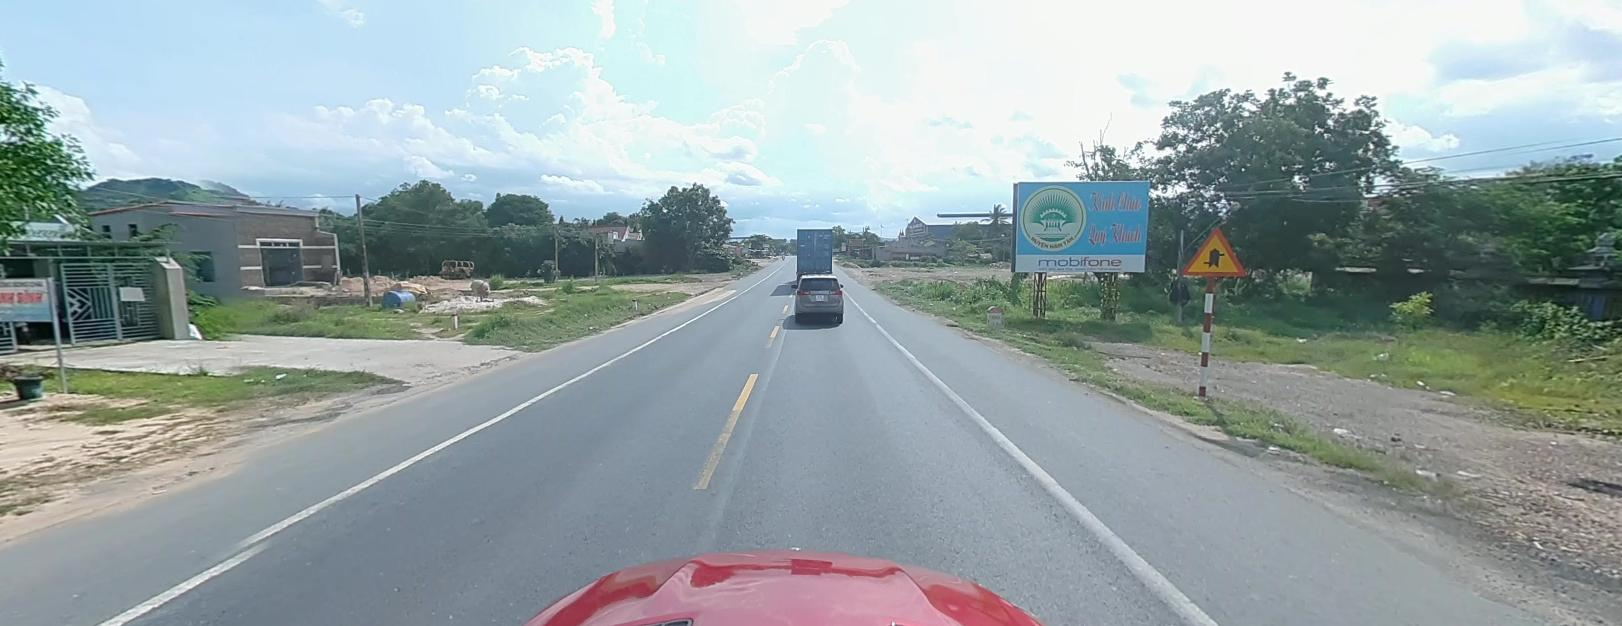Nguy hiem: (1181, 222, 1248, 279)
